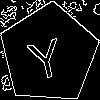Y: (24, 29, 66, 82)
